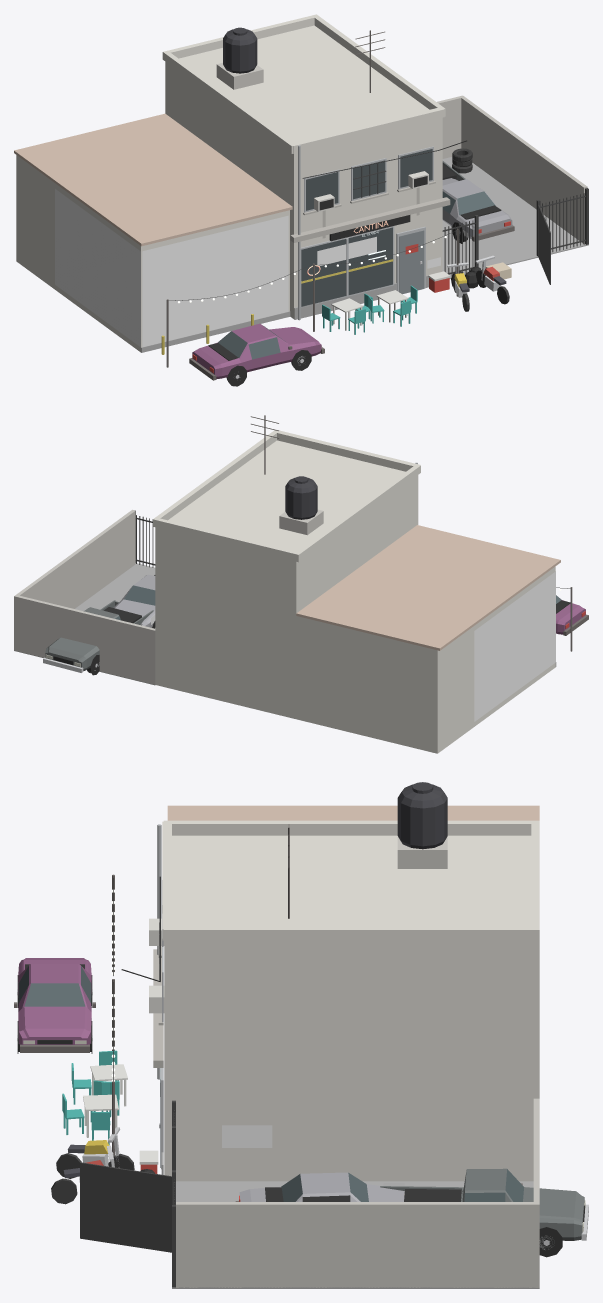
The model's file is punto_fuera.glb.
3 views of the same model, one above another, from view 1: azimuth 30°, elevation 25°; view 2: azimuth 150°, elevation 25°; view 3: azimuth 270°, elevation 25° (orthographic). The views are drawn at different scales.
Visible parts, largest first — view 1: Cantina_cuerpo-convcol, Anexo_techo, Anexo_mural, Anexo_mural_lado, Lote_barda_lado-convcol, Anexo_cuerpo-convcol, Lote_piso, Banqueta_lowrider-convcol, Cantina_aparador, Lote_carro-convcol, Lote_reja, Cantina_pretil (+20 smaller); view 2: Cantina_cuerpo-convcol, Anexo_cuerpo-convcol, Anexo_techo, Anexo_mural_lado, Lote_barda_fondo-convcol, Lote_barda_lado-convcol, Lote_troca-convcol, Cantina_pretil_lado, Cantina_pretil, Cantina_pretil_lado.001, Cantina_pretil_atras, Lote_piso (+5 smaller); view 3: Cantina_cuerpo-convcol, Lote_barda_lado-convcol, Banqueta_lowrider-convcol, Lote_porton, Cantina_pretil_lado.001, Lote_troca-convcol, Anexo_techo, Cantina_pretil_lado, Lote_carro-convcol, Azotea_tinaco, Lote_piso, Banqueta_moto0-convcol (+9 smaller).
Part boxes in pixels (left/top/right/bottom): Cantina_cuerpo-convcol: left=165, top=25, right=442, bottom=318; Anexo_techo: left=14, top=113, right=292, bottom=246; Anexo_mural: left=142, top=215, right=288, bottom=347; Anexo_mural_lado: left=55, top=189, right=140, bottom=347; Lote_barda_lado-convcol: left=460, top=96, right=587, bottom=243; Anexo_cuerpo-convcol: left=16, top=155, right=289, bottom=352; Lote_piso: left=442, top=157, right=588, bottom=278; Banqueta_lowrider-convcol: left=189, top=323, right=324, bottom=386; Cantina_aparador: left=301, top=227, right=392, bottom=306; Lote_carro-convcol: left=442, top=178, right=514, bottom=243; Lote_reja: left=442, top=193, right=585, bottom=276; Cantina_pretil: left=290, top=107, right=444, bottom=153; Cantina_cuerpo-convcol: left=155, top=440, right=418, bottom=718; Anexo_cuerpo-convcol: left=296, top=566, right=555, bottom=753; Anexo_techo: left=296, top=525, right=560, bottom=650; Anexo_mural_lado: left=474, top=571, right=555, bottom=721; Lote_barda_fondo-convcol: left=14, top=595, right=155, bottom=684; Lote_barda_lado-convcol: left=16, top=509, right=135, bottom=608; Lote_troca-convcol: left=43, top=600, right=153, bottom=675; Cantina_pretil_lado: left=294, top=465, right=420, bottom=562; Cantina_pretil: left=274, top=430, right=419, bottom=471; Cantina_pretil_lado.001: left=153, top=430, right=276, bottom=527; Cantina_pretil_atras: left=156, top=518, right=298, bottom=561; Lote_piso: left=14, top=563, right=155, bottom=685; Cantina_cuerpo-convcol: left=164, top=835, right=539, bottom=1181; Lote_barda_lado-convcol: left=176, top=1202, right=539, bottom=1287; Banqueta_lowrider-convcol: left=14, top=958, right=95, bottom=1053; Lote_porton: left=80, top=1162, right=171, bottom=1252; Cantina_pretil_lado.001: left=163, top=926, right=539, bottom=941; Lote_troca-convcol: left=380, top=1168, right=588, bottom=1257; Anexo_techo: left=167, top=805, right=539, bottom=820; Cantina_pretil_lado: left=163, top=820, right=539, bottom=835; Lote_carro-convcol: left=235, top=1172, right=404, bottom=1201; Azotea_tinaco: left=397, top=782, right=447, bottom=849; Lote_piso: left=172, top=1181, right=539, bottom=1288; Banqueta_moto0-convcol: left=56, top=1127, right=134, bottom=1178.
Size of what is drawn, in the model's own units: 18.1 by 8.97 by 13.76.
